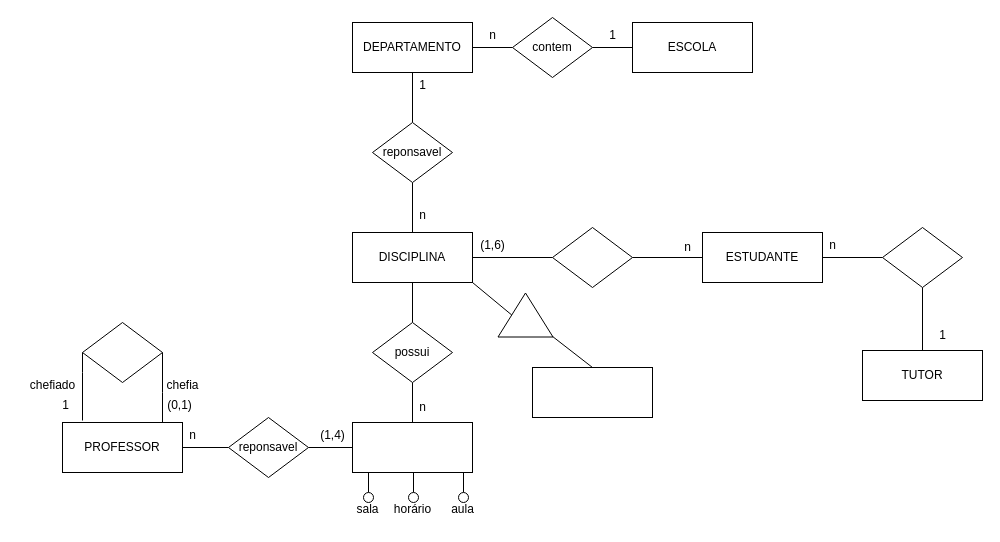
The diagram is 1000 pixels wide and 542 high, and some of its shapes have lost their labels. Here are the shapes that lost their labels. From the top down, the centre of each, then its label:
(592,257): inscreve
(922,257): tutora
(122,352): CHEFE
(592,392): DISCIPLINA PRINCIPAL
(412,447): TURMA
